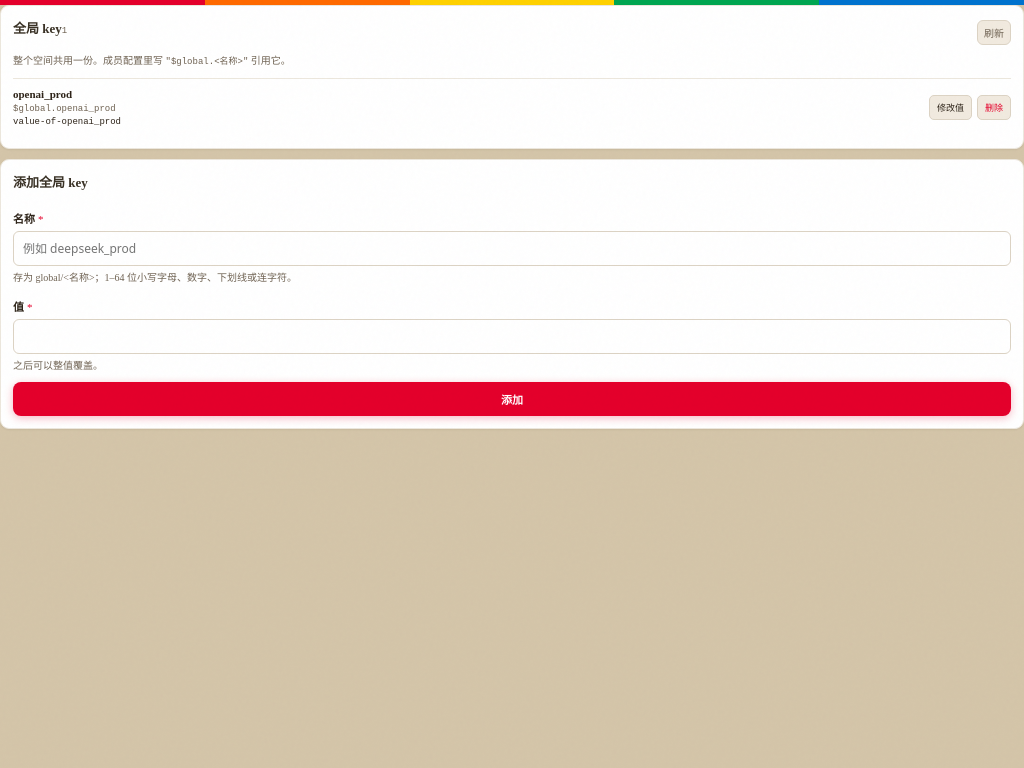
Scenario: GlobalKeysPanel › lists names with their values, adds with a password field, and reads once on open
Expected: the text "openai_prod" is shown, x1=13 y1=88 x2=72 y2=100
Expected: the text "$global.openai_prod" is shown, x1=13 y1=104 x2=116 y2=114
In the field labelled "名称": (512,248) x1=13 y1=231 x2=1011 y2=266, type "Bad Name"
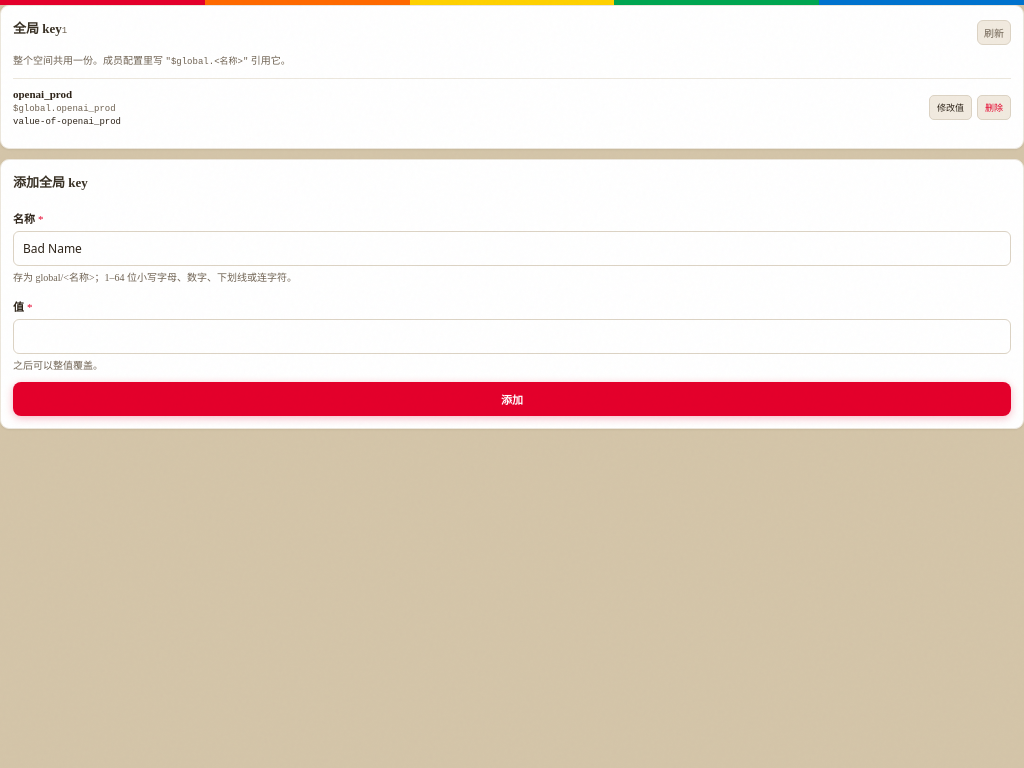
In the password field labelled "值": (512,336) x1=13 y1=318 x2=1011 y2=354, type "sk-deep-secret-5678"
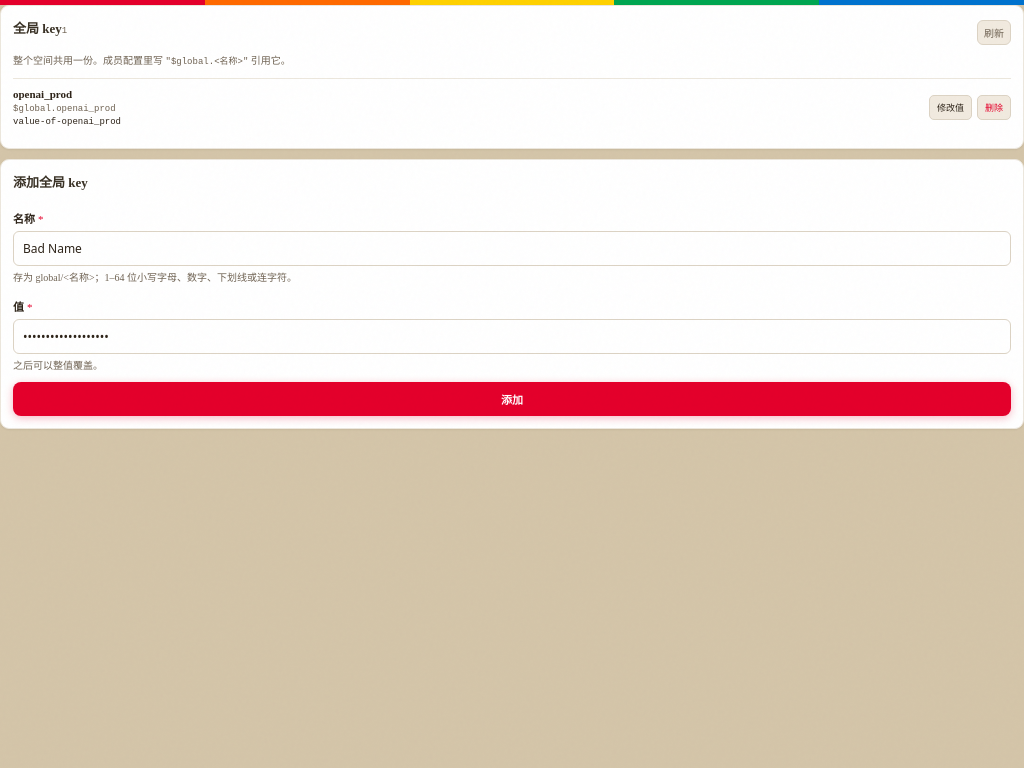
Click the button "添加": (512,399) x1=13 y1=382 x2=1011 y2=416
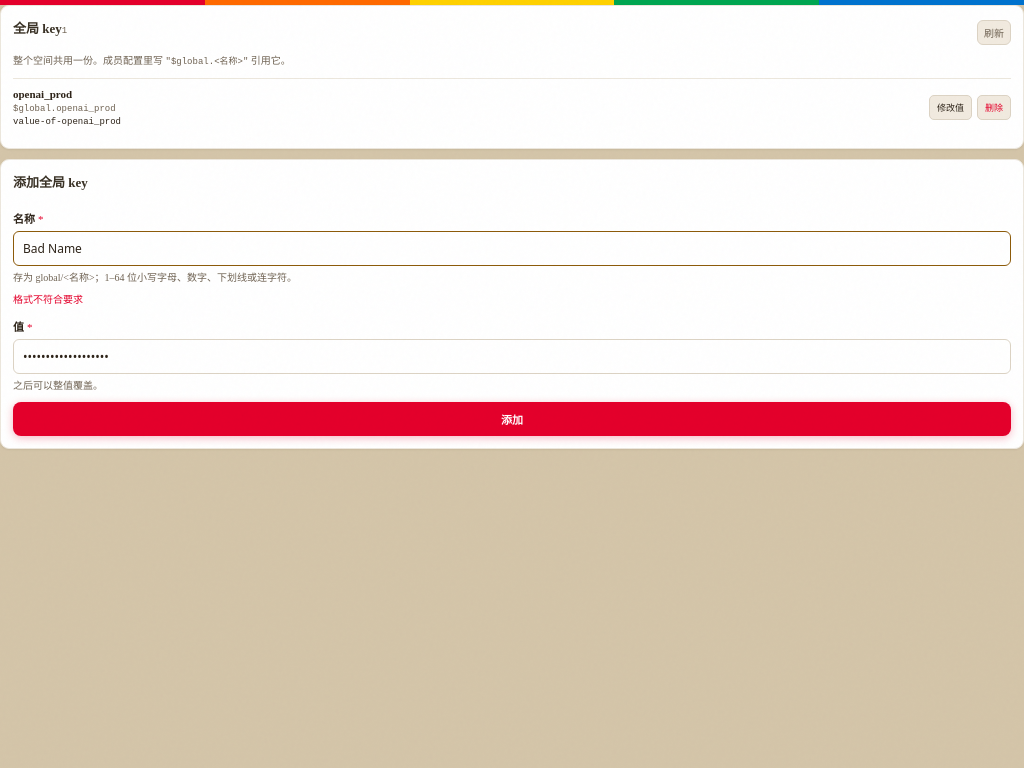
Expected: the text "格式不符合要求" is shown, x1=13 y1=294 x2=83 y2=304
Replace the text in the field labelled "名称" with "deepseek_prod": (512,248) x1=13 y1=231 x2=1011 y2=266
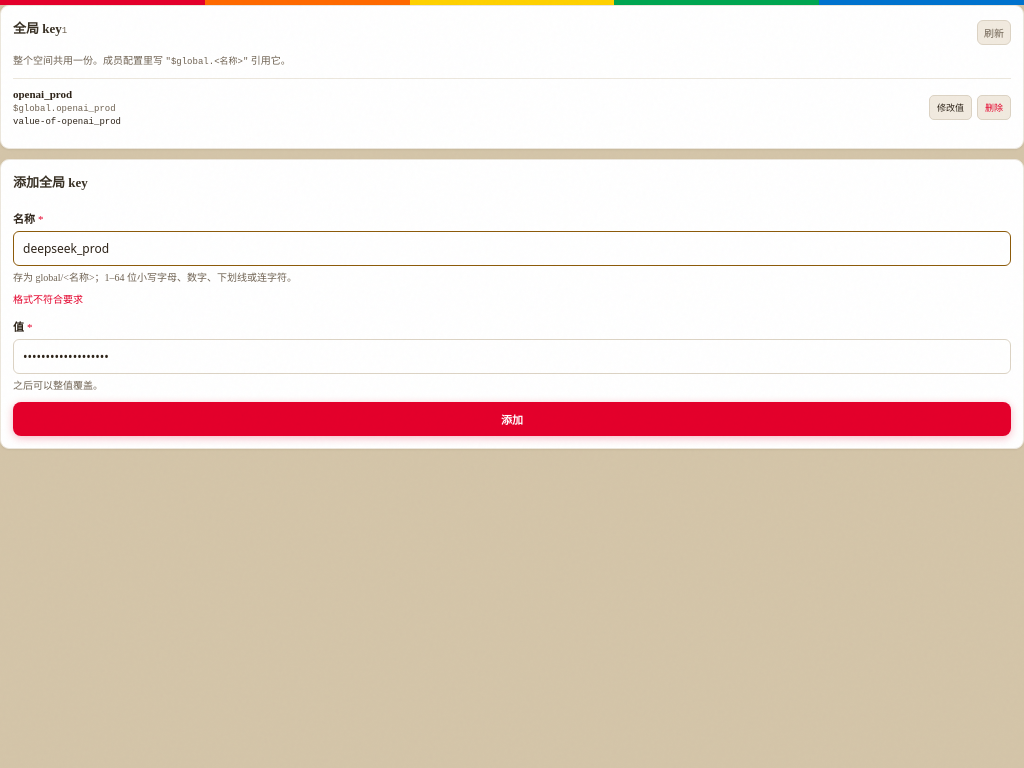
Click the button "添加": (512,419) x1=13 y1=402 x2=1011 y2=436
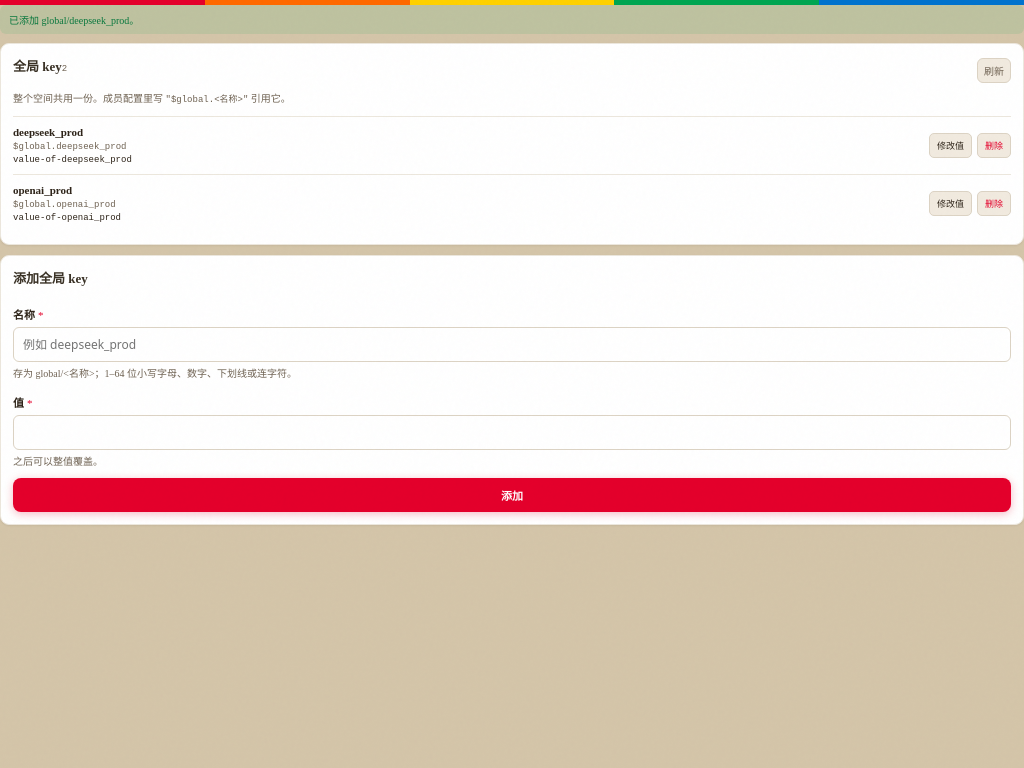
Expected: the text "deepseek_prod" is shown, x1=13 y1=126 x2=83 y2=138
Expected: the text "已添加 global/deepseek_prod。" is shown, x1=0 y1=5 x2=1023 y2=34
Expected: the text "value-of-deepseek_prod" is shown, x1=13 y1=155 x2=132 y2=165
